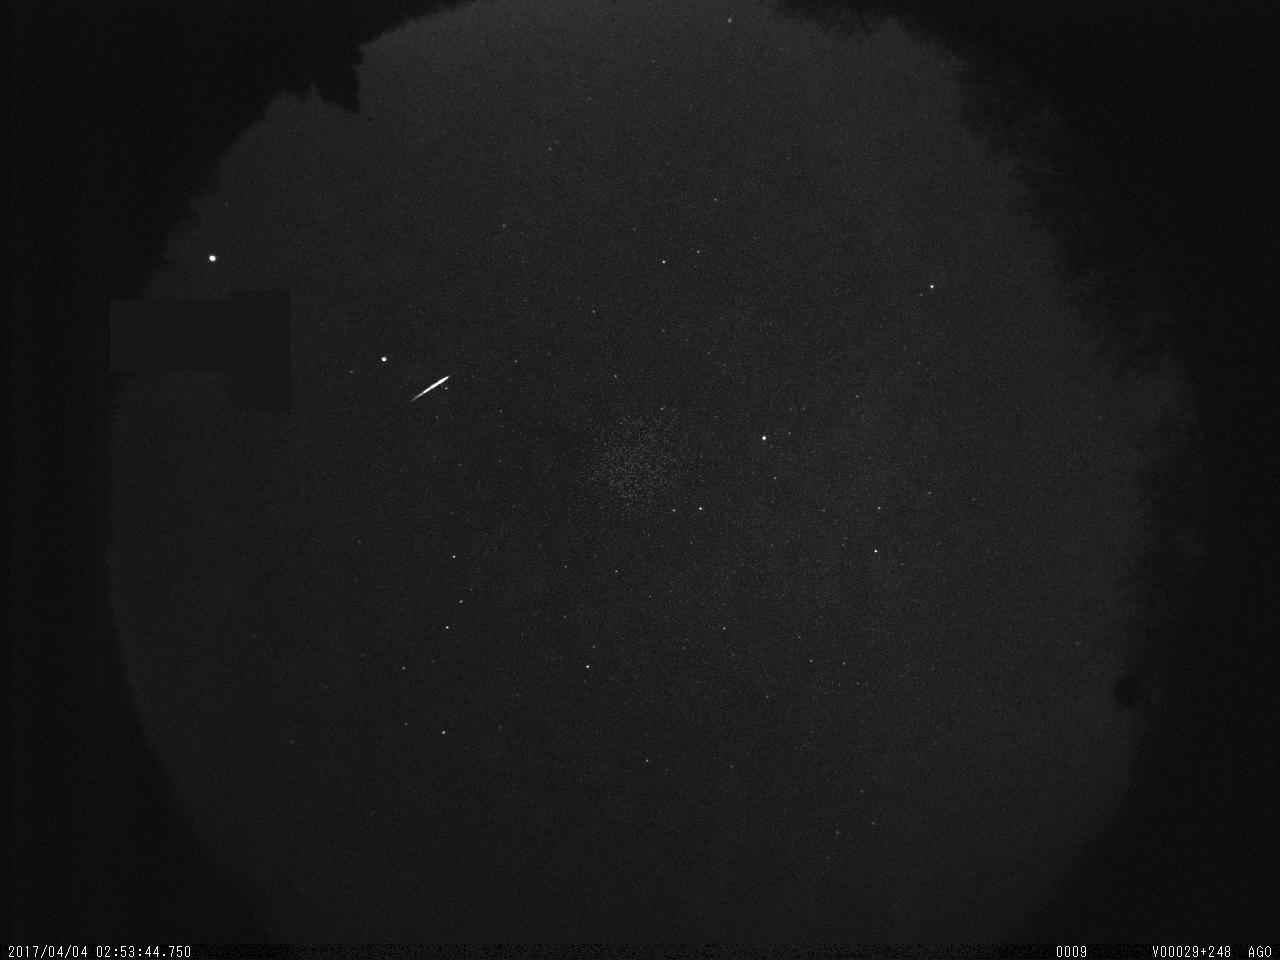Meteor: (409, 372, 450, 402)
